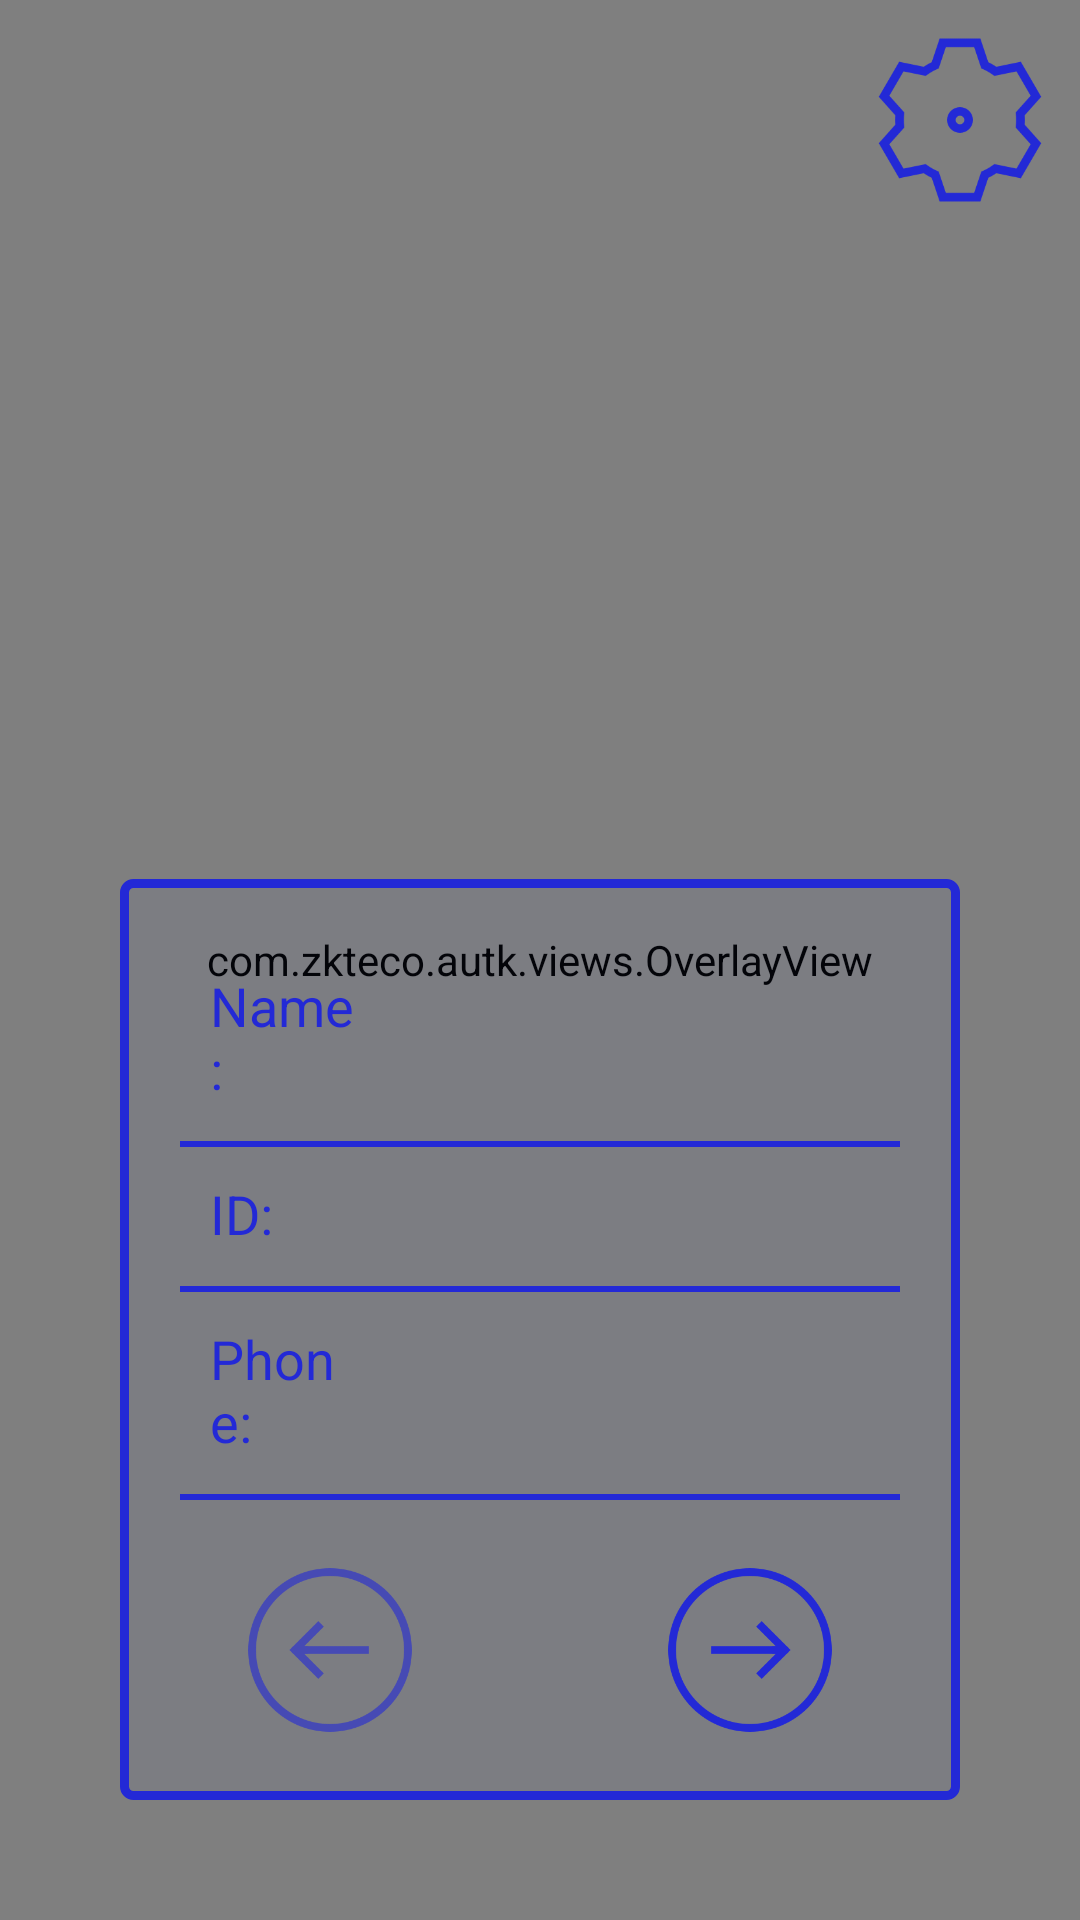

Locate icon controls on the screen. Image size 1080 x 1920, boxes as (left=x1, top=y1, right=x2, bottom=y2).
back: (left=248, top=1568, right=412, bottom=1732)
next: (left=668, top=1568, right=832, bottom=1732)
settings: (left=879, top=38, right=1041, bottom=202)
